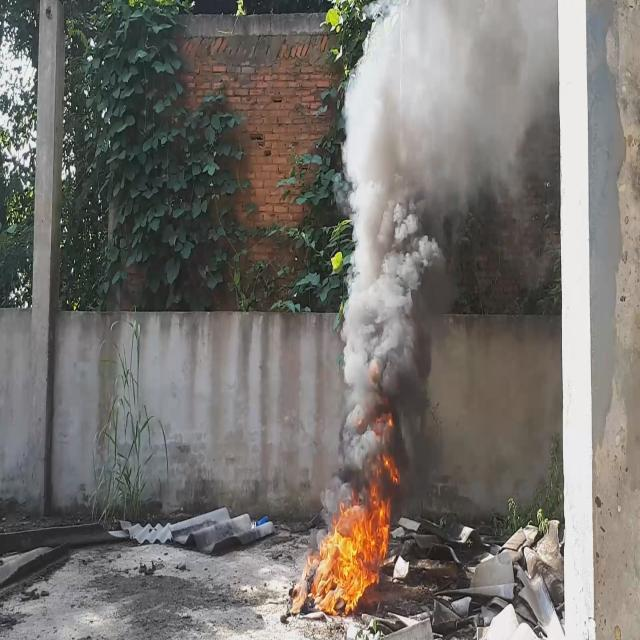Fire: (310, 484, 396, 614)
Smoke: (337, 0, 557, 486)
